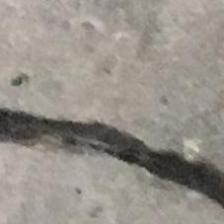Crack: (3, 90, 223, 224)
